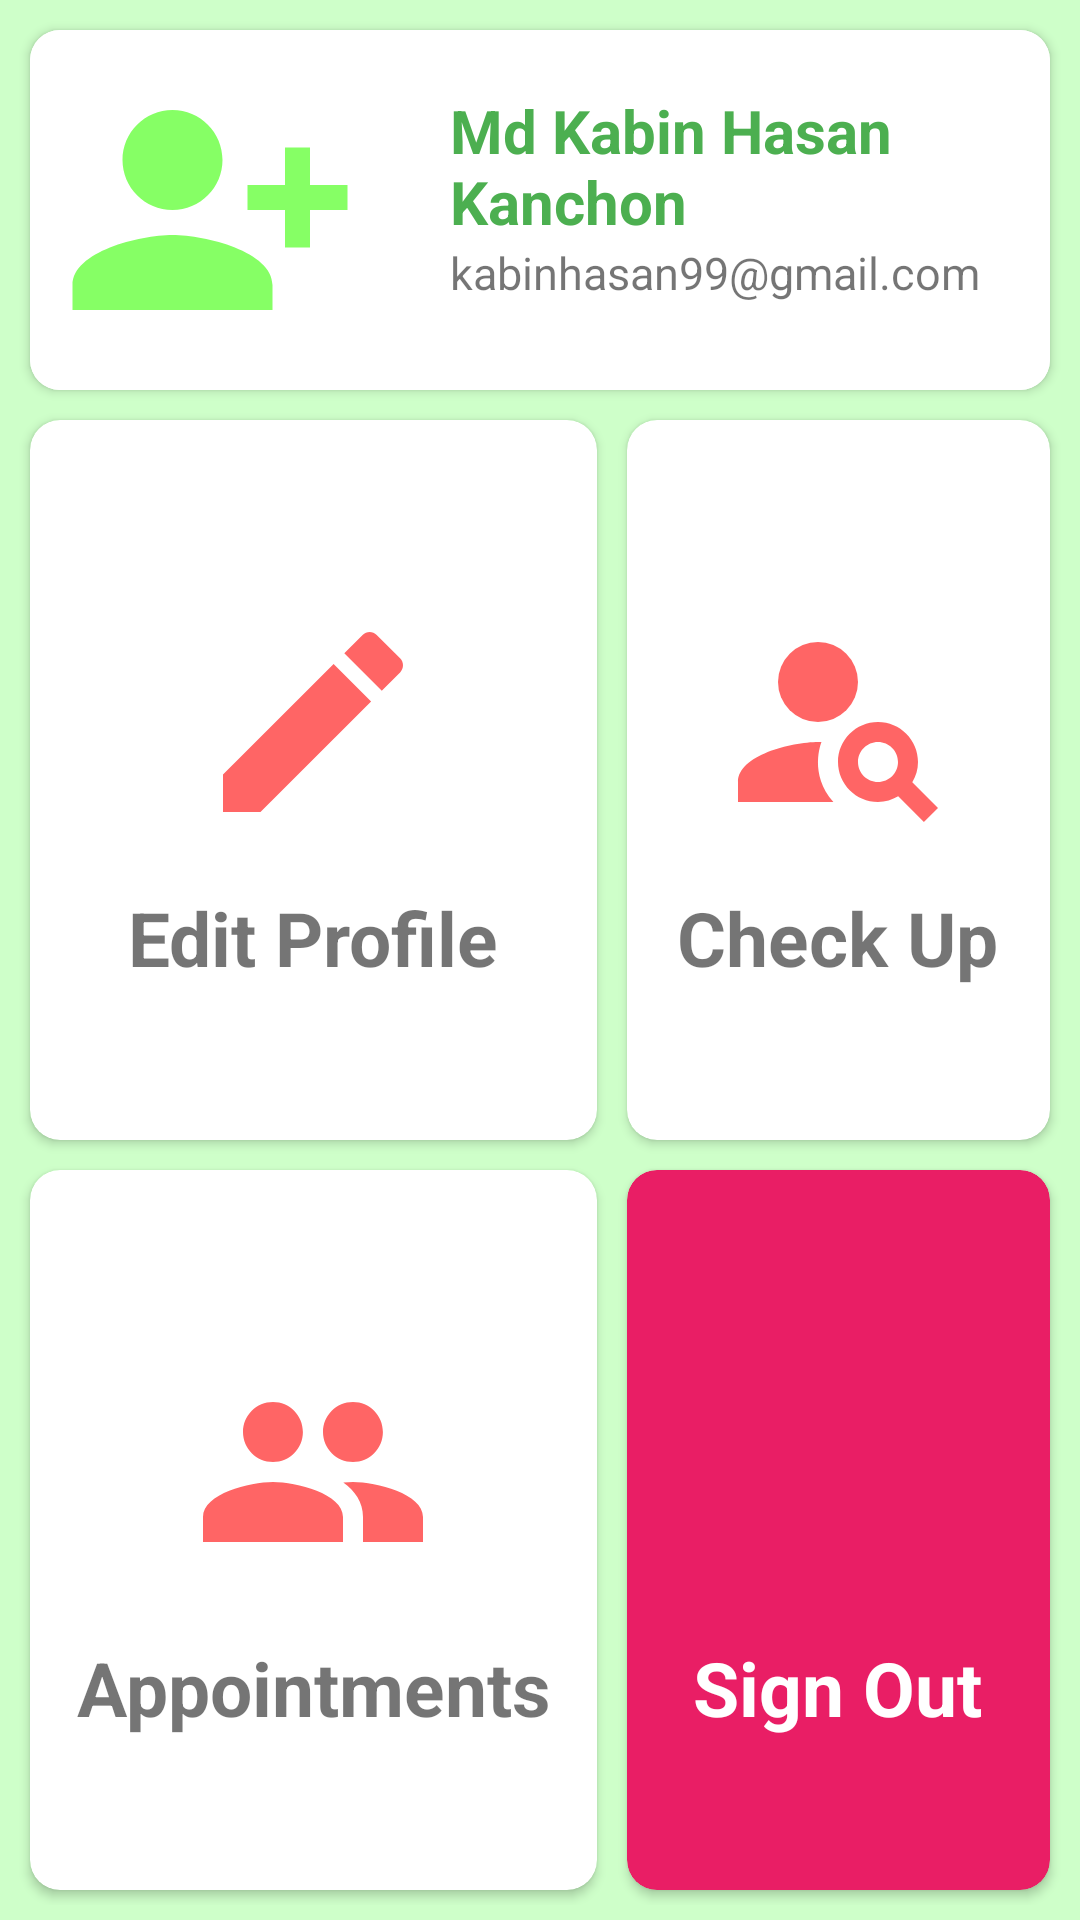

Named icons in this screenshot (1080 x 1920) and their bounding boxes, (x1, y1, x2, y2):
people: (203, 1402, 423, 1542)
person add: (72, 110, 348, 310)
person search: (738, 642, 938, 822)
